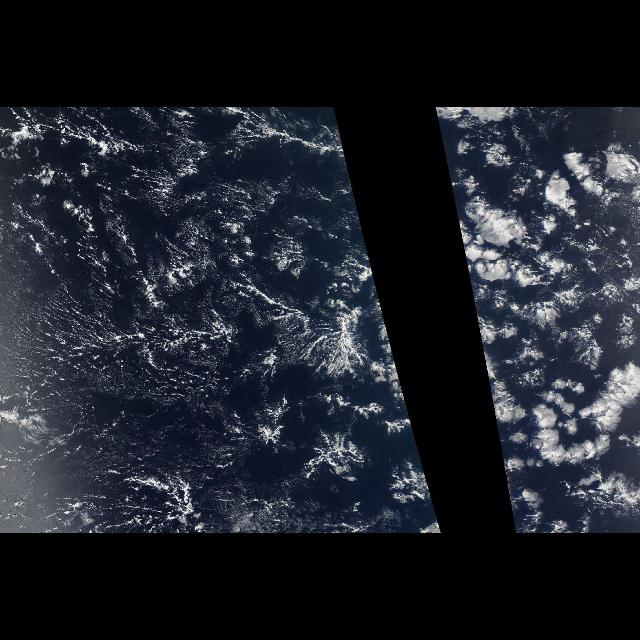Sugar: (487, 140, 639, 502), (13, 296, 247, 478)
